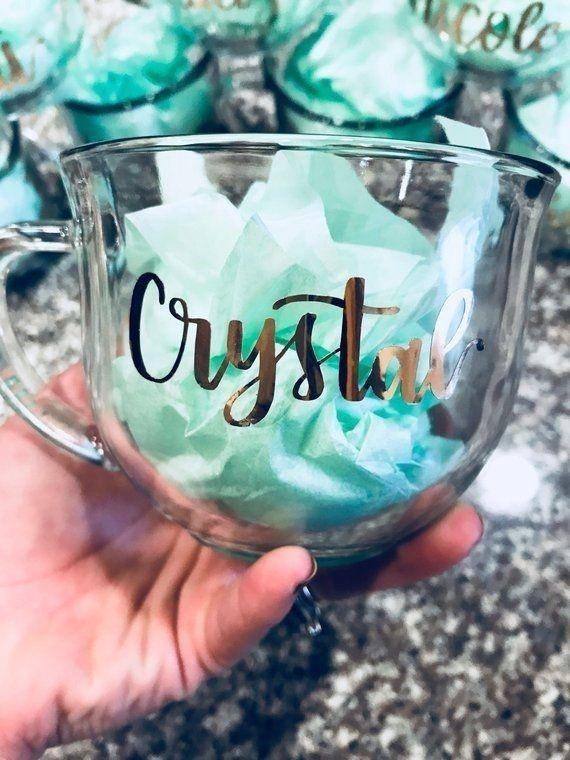glass-mug: (1, 120, 562, 591)
